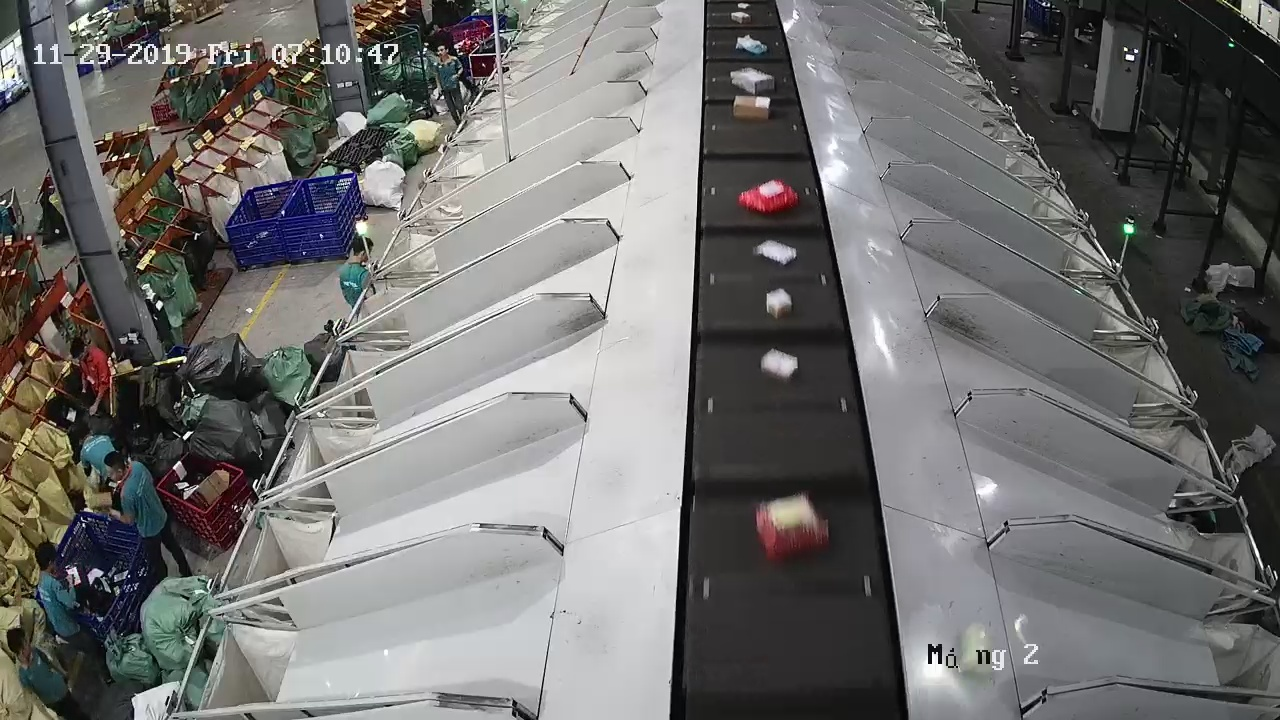parcel: (755, 492, 829, 565), (737, 178, 799, 216), (761, 348, 798, 382), (756, 239, 797, 267), (766, 287, 792, 320)
